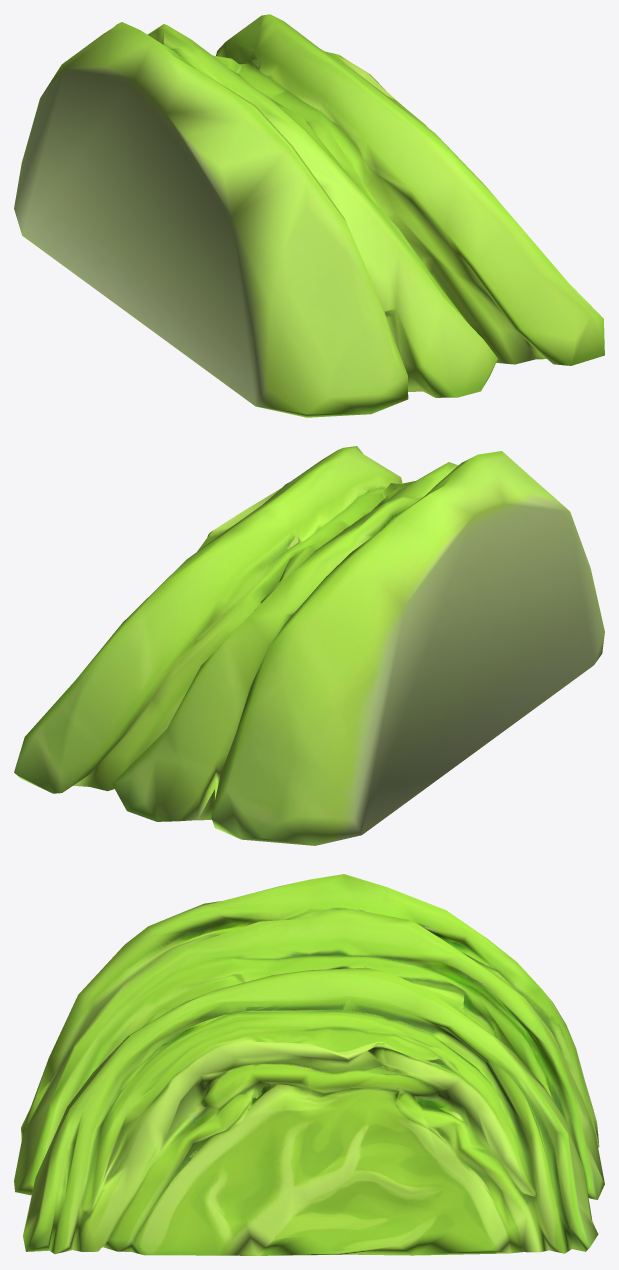
Rendered from CuttedCabbage.fbx.
3 renders of one model, top to bottom at view 1: azimuth 30°, elevation 25°; view 2: azimuth 150°, elevation 25°; view 3: azimuth 270°, elevation 25°, orthographic. The views are drawn at different scales.
Parts seen in each view (by area): view 1: tripo_node_55599265; view 2: tripo_node_55599265; view 3: tripo_node_55599265.
Boxes of the visible parts, x1,y1,x2,y2 form: tripo_node_55599265: [14, 14, 604, 417]; tripo_node_55599265: [14, 446, 604, 845]; tripo_node_55599265: [14, 874, 604, 1255].
Size of the model in its own units: 0.5971 by 0.4643 by 1.
Materials: 1 (1 with a texture image).
